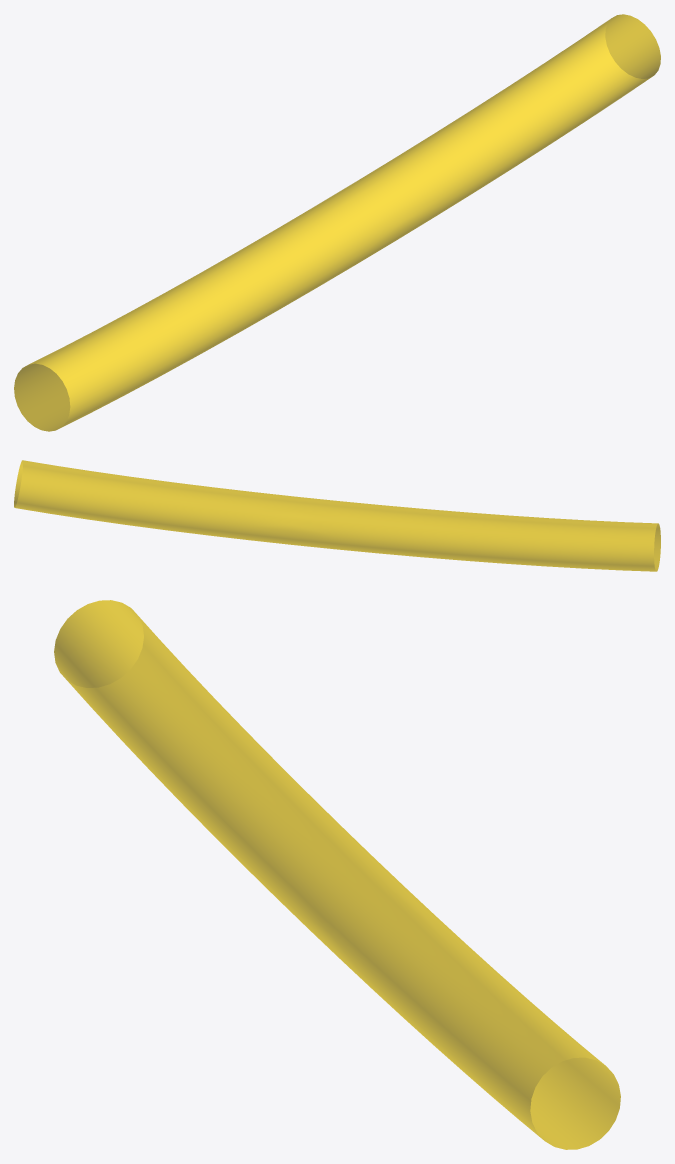
The model's file is Event_419990632_track_84.fbx.
3 renders of one model, top to bottom at view 1: azimuth 30°, elevation 25°; view 2: azimuth 150°, elevation 25°; view 3: azimuth 270°, elevation 25°, orthographic. The views are drawn at different scales.
Visible parts, largest first — view 1: Model; view 2: Model; view 3: Model.
Part boxes in pixels (<box>): Model: <box>14,14,660,431</box>; Model: <box>14,460,660,571</box>; Model: <box>54,600,620,1149</box>.
Size of the model in its own units: 0.5094 by 0.0628 by 0.2336.
